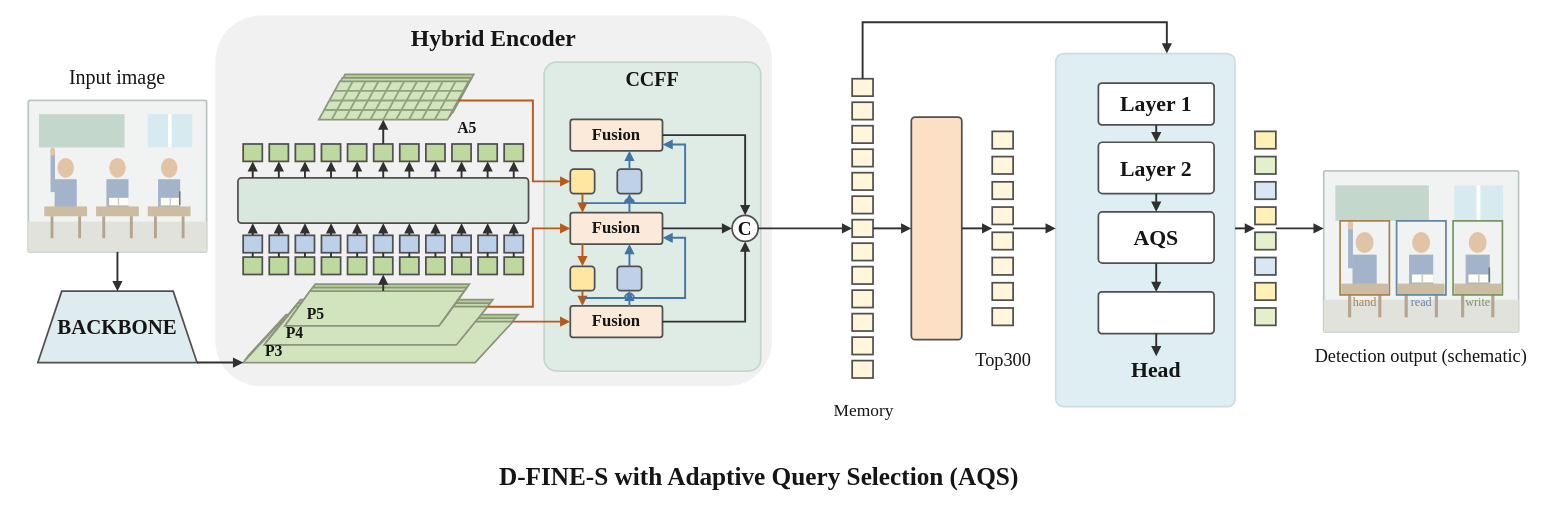
Some shapes in this 1555 by 512 pixel diagram are drawn without their labels. Here are the shapes that lost their labels. From the top down, the centre of each, then its label:
At point (383, 200): "AIFI".
At point (936, 228): "Query selection".
At point (1076, 226): "D-FINE Decoder & Head".
At point (1156, 312): "Layer 3".
